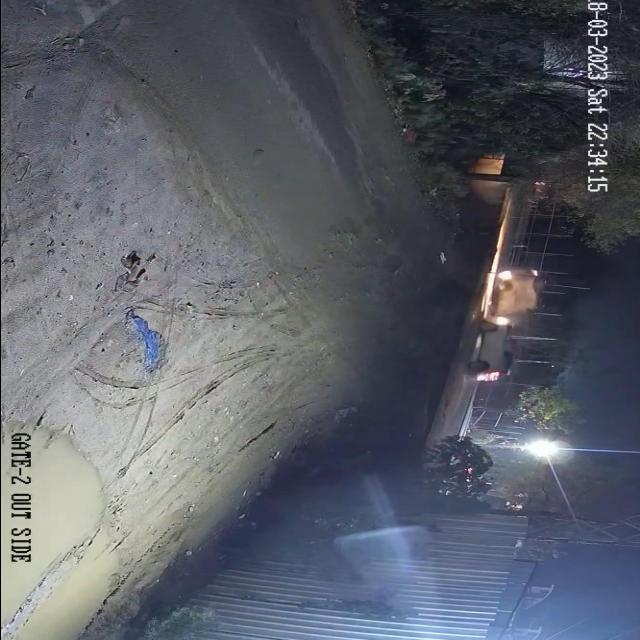accident: (463, 265, 549, 387)
